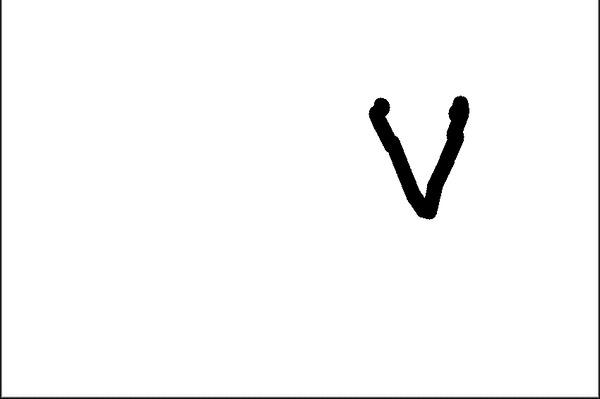V: (362, 82, 512, 222)
